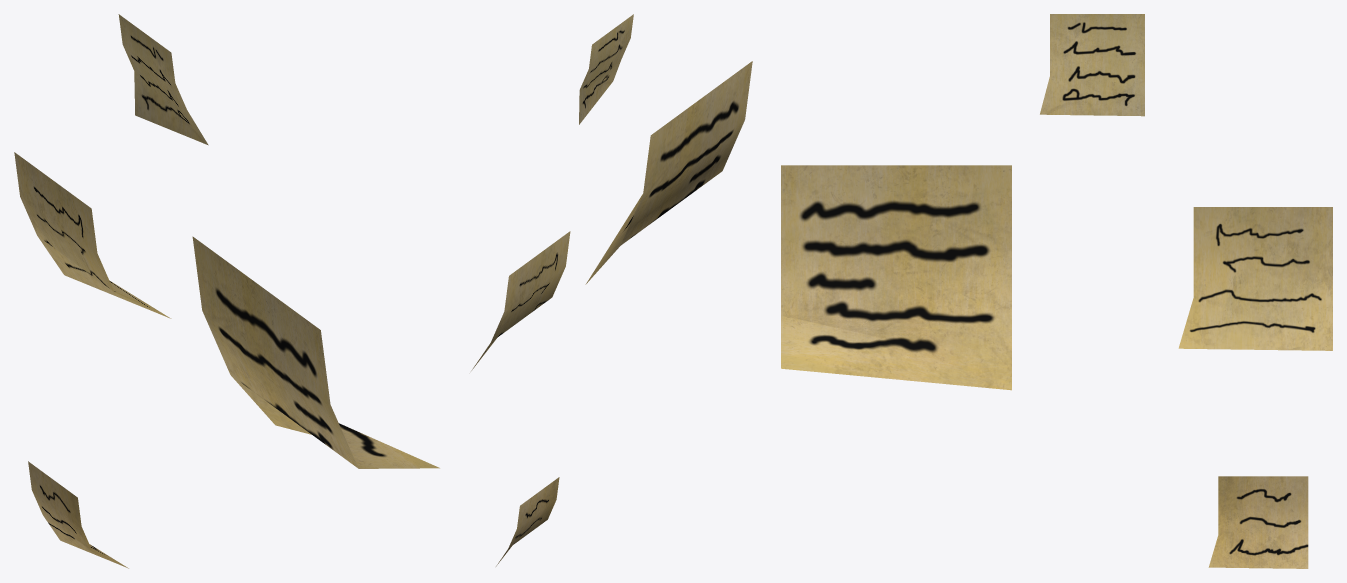
Rendered from not.fbx.
3 renders of one model, left to right at view 1: azimuth 30°, elevation 25°; view 2: azimuth 150°, elevation 25°; view 3: azimuth 270°, elevation 25°, orthographic. The views are drawn at different scales.
Parts seen in each view (by area): view 1: note; view 2: note; view 3: note.
Part boxes in pixels (x1,y1,x2,y2): note: [14, 14, 439, 568]; note: [471, 14, 752, 566]; note: [781, 14, 1332, 568].
Size of the model in its own units: 11.39 by 54.54 by 50.45.
